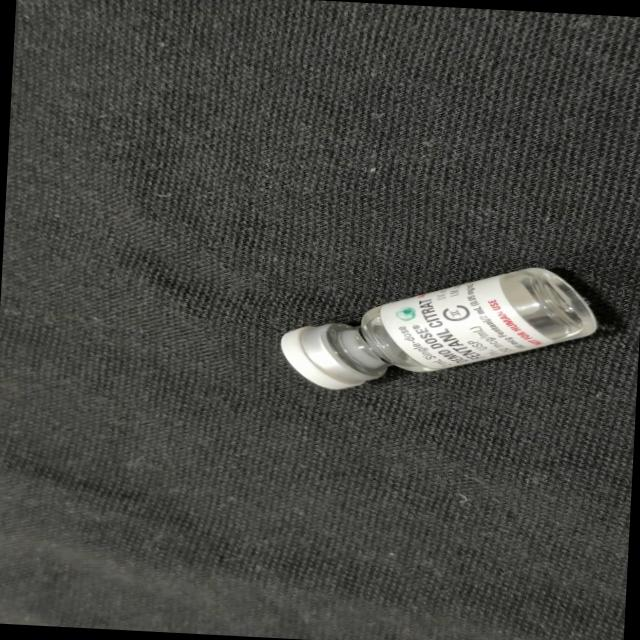fentanl_citrat: (284, 256, 598, 400)
